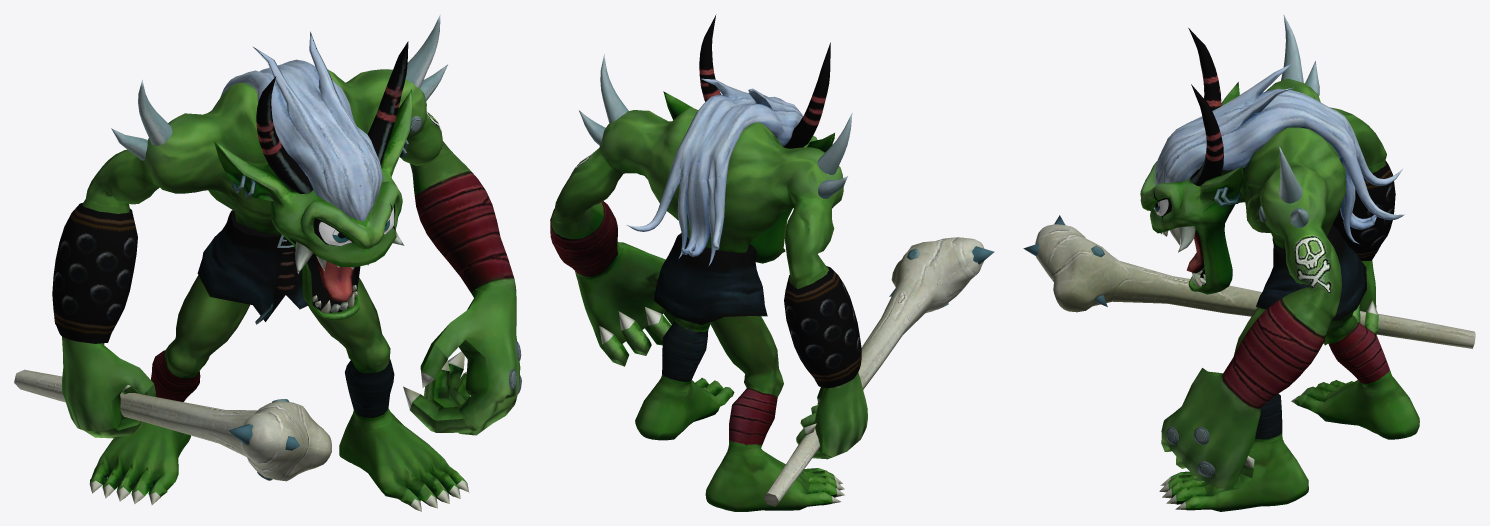
3 views of the same model, side by side, from view 1: azimuth 30°, elevation 25°; view 2: azimuth 150°, elevation 25°; view 3: azimuth 270°, elevation 25° (orthographic). The views are drawn at different scales.
Visible parts, largest first — view 1: oaremon; view 2: oaremon; view 3: oaremon.
Part boxes in pixels (x1,y1,x2,y2): oaremon: (14, 15, 521, 511); oaremon: (550, 14, 994, 511); oaremon: (1023, 15, 1475, 511).
Size of the model in its own units: 132 by 148 by 149.
1 material, 1 textured.
